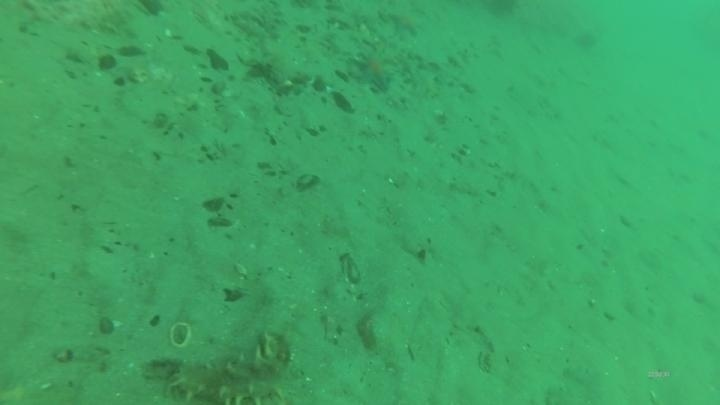holothurian: (165, 348, 299, 405)
starfish: (352, 47, 398, 94), (385, 8, 427, 40)
